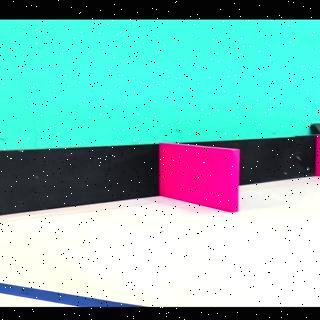xparking: (166, 152, 238, 212), (317, 140, 319, 176)
